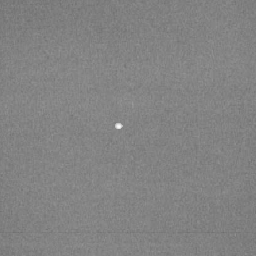Target: (113, 122, 124, 131)
